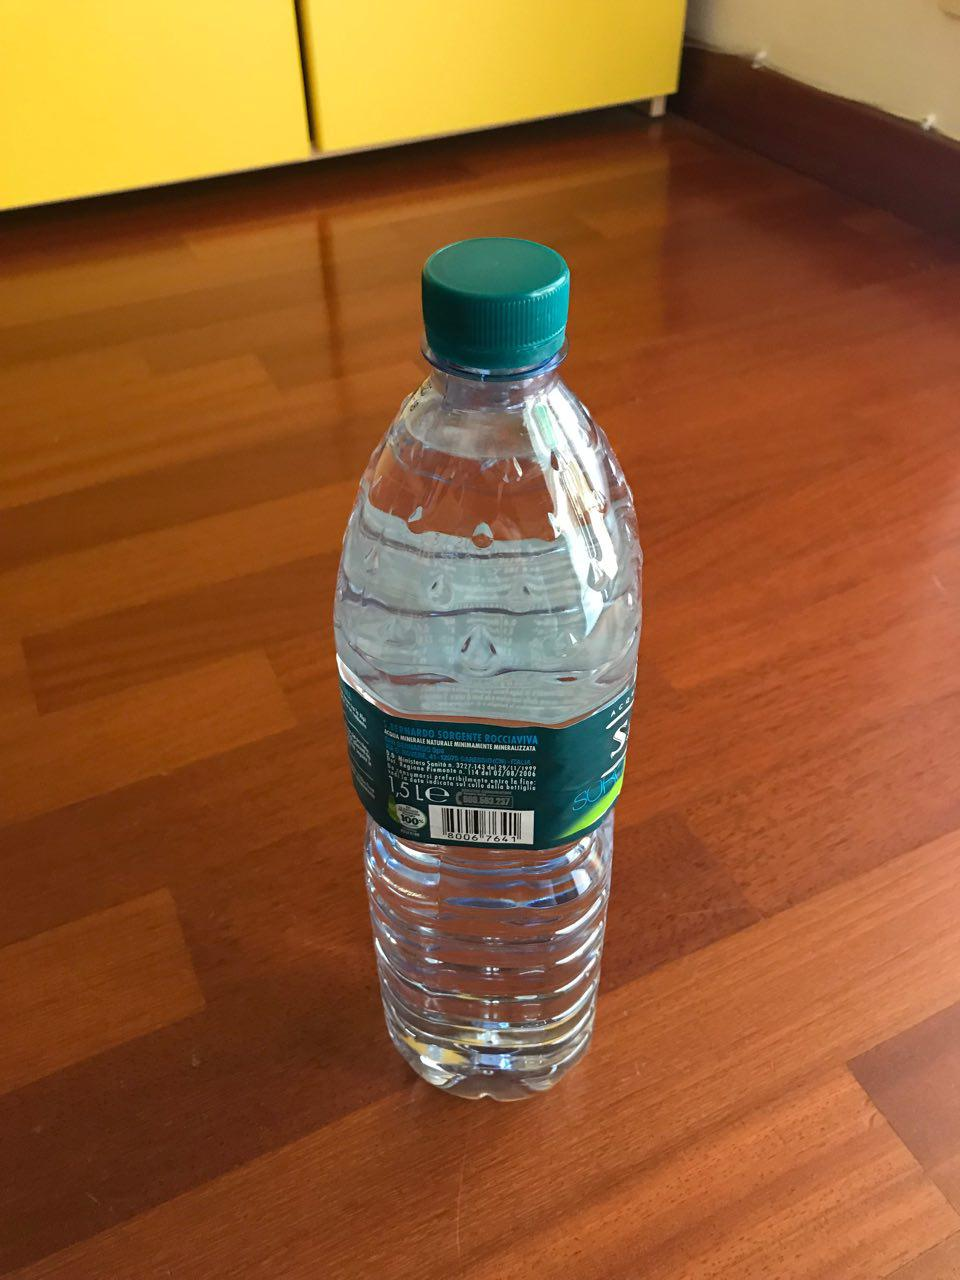san_bernardo: (331, 235, 646, 1108)
